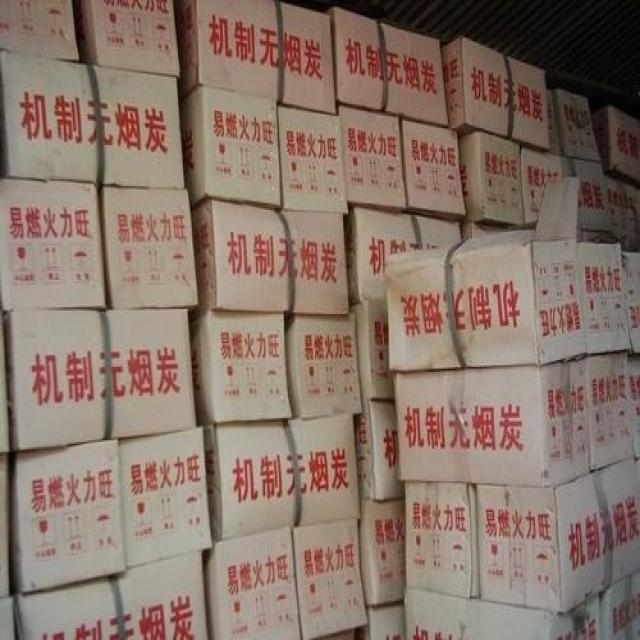box: (387, 230, 588, 370), (10, 307, 197, 452), (394, 358, 590, 485), (1, 55, 186, 189), (476, 461, 640, 611), (204, 411, 361, 541), (192, 198, 349, 314), (180, 0, 337, 114), (14, 439, 127, 596), (18, 550, 209, 640), (0, 181, 108, 311), (118, 428, 214, 572), (332, 9, 449, 126), (442, 36, 549, 150), (183, 85, 280, 207), (191, 311, 293, 425), (101, 188, 200, 305), (348, 207, 462, 305), (204, 529, 300, 640), (406, 587, 602, 640), (294, 515, 369, 640), (404, 480, 480, 599), (70, 0, 179, 75), (278, 108, 349, 215), (287, 316, 362, 416), (339, 106, 407, 210), (403, 119, 467, 215), (577, 242, 631, 353), (586, 350, 635, 471), (460, 131, 522, 225), (358, 500, 406, 606), (353, 401, 404, 500), (0, 0, 81, 61), (352, 299, 396, 401), (593, 106, 640, 179), (557, 90, 602, 160), (571, 160, 614, 232), (522, 147, 562, 222), (622, 251, 640, 353), (364, 604, 406, 640)
